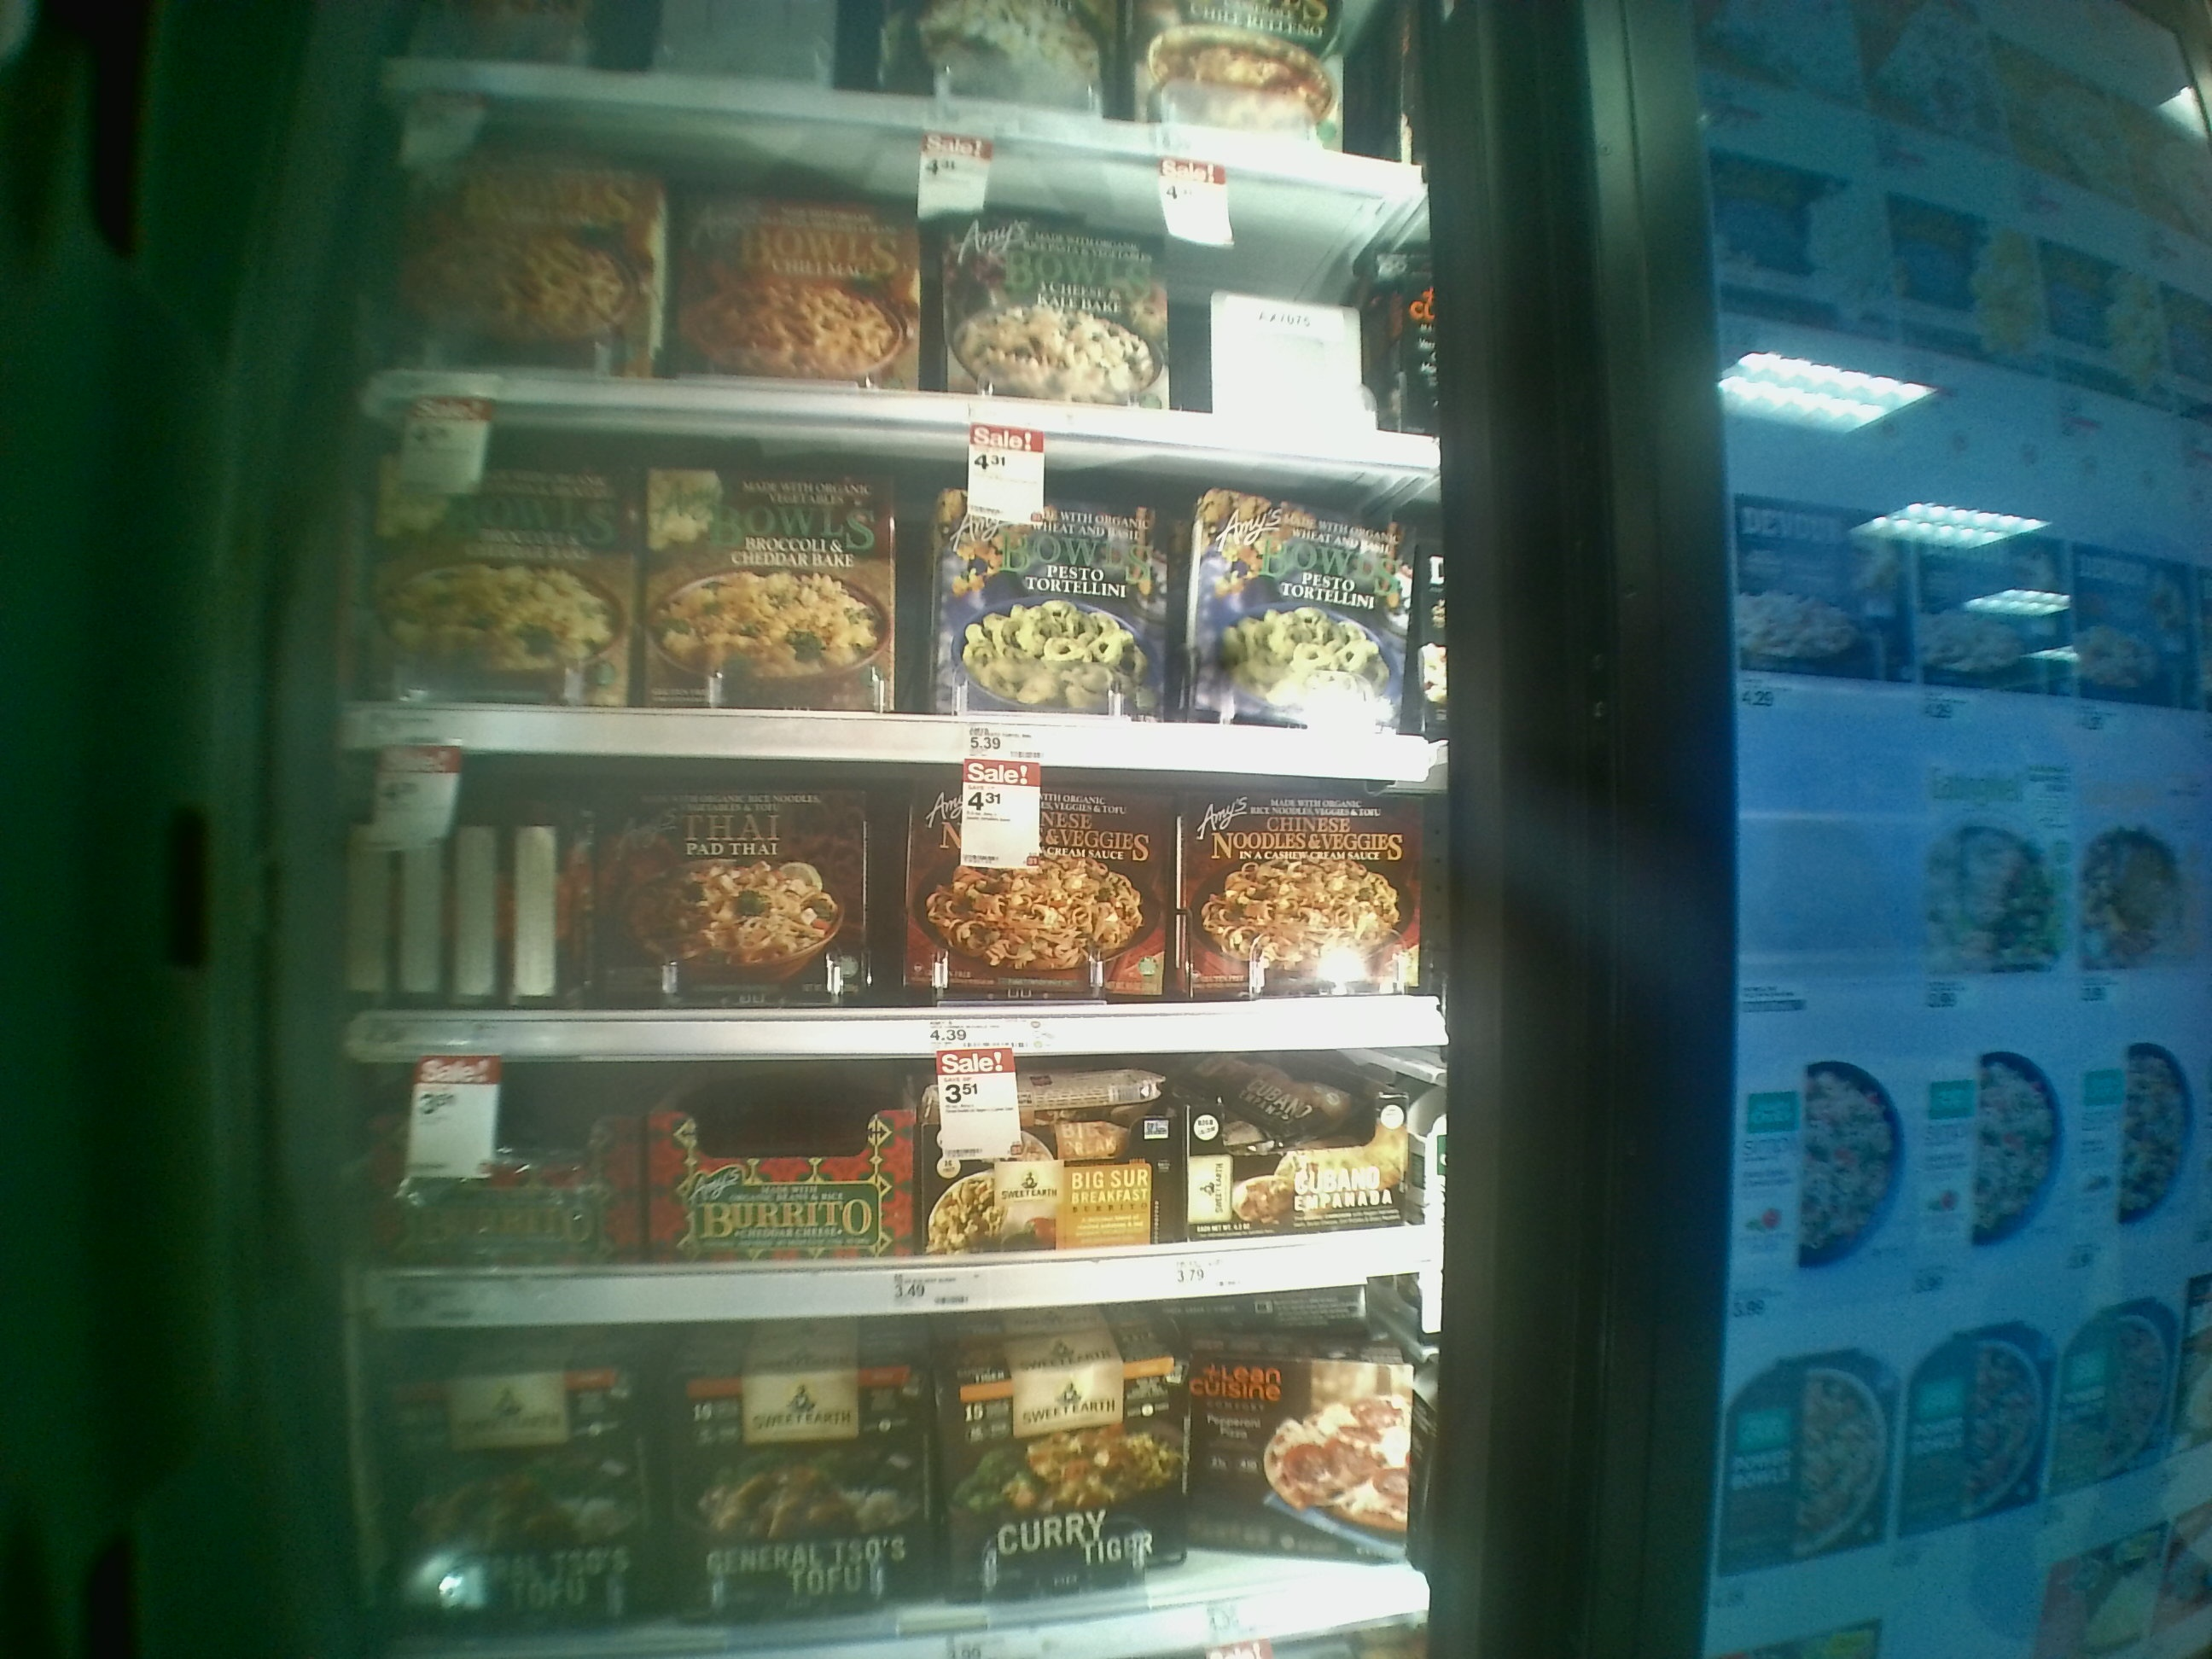frozen-food-shelf: (331, 443, 1470, 788), (324, 788, 1465, 1063), (324, 1060, 1484, 1328)
